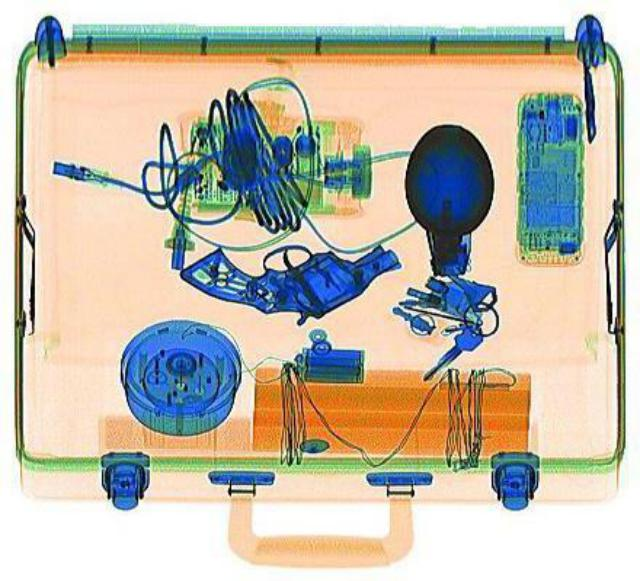Gun: (175, 238, 401, 317)
